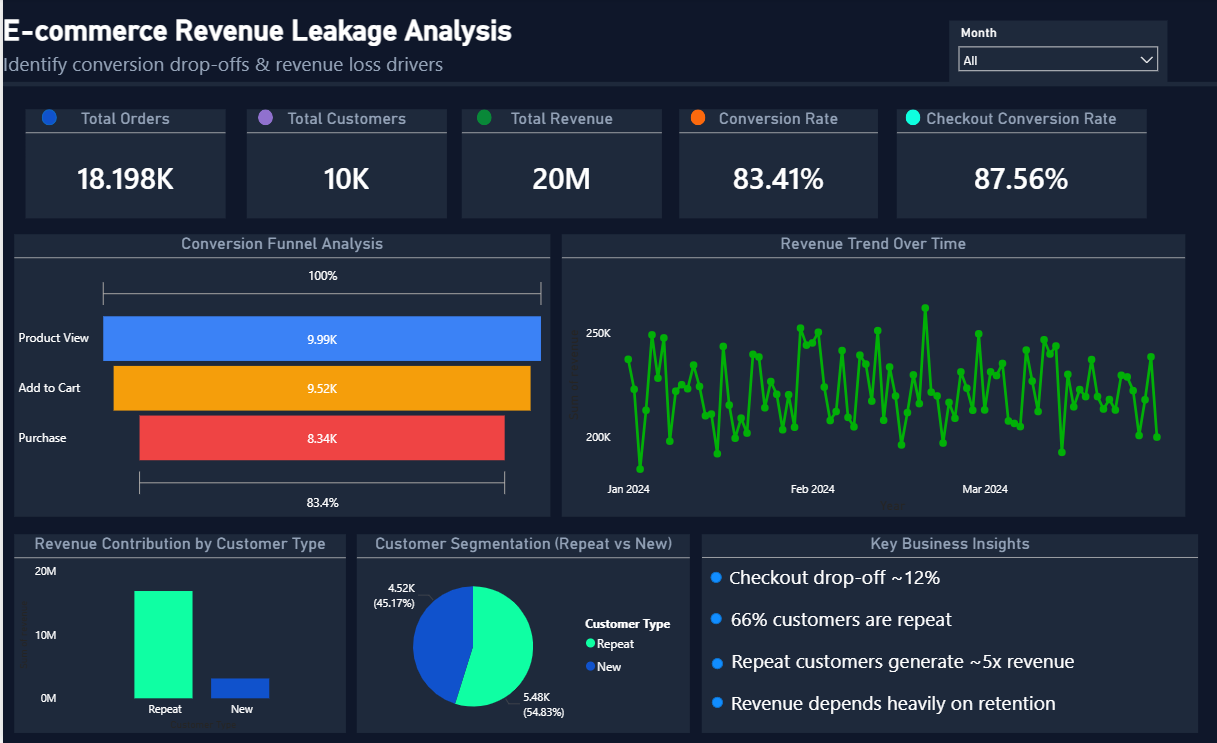

Layout of this report page (visuals, bound fields, positions):
{"tool":"powerbi","page":{"name":"Page 1","canvas":[1346,826],"ordinal":0},"visuals":[{"type":"cardVisual","title":"Total Revenue","fields":{"Data":["Sum(orders.revenue)"]},"box":[507.8,123.5,221.7,120.6],"z":0},{"type":"cardVisual","title":"Total Orders","fields":{"Data":["Count(orders.order_id)"]},"box":[24.9,123.2,221.4,120.4],"z":1000},{"type":"cardVisual","title":"Total Customers","fields":{"Data":["CountNonNull(customers.customer_id)"]},"box":[269.3,123.5,221.7,120.6],"z":2000},{"type":"funnel","title":"Conversion Funnel Analysis","fields":{"Y":["Count(events.user_id)"],"Category":["events.Event Label"]},"box":[12.6,260.9,593.4,312.8],"z":3000},{"type":"pieChart","title":"Customer Segmentation (Repeat vs New)","fields":{"Category":["customers.Customer Type"],"Y":["CountNonNull(customers.customer_id)"]},"box":[391.4,593.4,369,220.2],"z":4000},{"type":"clusteredColumnChart","title":"Revenue Contribution by Customer Type","fields":{"Category":["customers.Customer Type"],"Y":["Sum(orders.revenue)"]},"box":[12.6,593.4,367.5,220.2],"z":5000},{"type":"lineChart","title":"Revenue Trend Over Time","fields":{"Y":["Sum(orders.revenue)"],"Category":["orders.order_date.Variation.Date Hierarchy.Year","orders.order_date.Variation.Date Hierarchy.Quarter","orders.order_date.Variation.Date Hierarchy.Month","orders.order_date.Variation.Date Hierarchy.Day"]},"box":[618.7,260.9,690.2,312.8],"z":6000},{"type":"cardVisual","title":"Conversion Rate","fields":{"Data":["customers.Conversion Rate"]},"box":[749.1,123.5,220.2,120.6],"z":7000},{"type":"cardVisual","title":"Checkout Conversion Rate","fields":{"Data":["customers.Checkout Conversion"]},"box":[989.6,123.2,276.8,120.4],"z":8000},{"type":"shape","title":"E-commerce Revenue Leakage Analysis","box":[0,18.2,1345.3,80],"z":9000},{"type":"slicer","fields":{"Values":["orders.order_date.Variation.Date Hierarchy.Month"]},"box":[1047.9,25.3,241.3,70.1],"z":11000},{"type":"textbox","title":"Key Business Insights","box":[773.7,593.8,549.5,220.1],"z":11001},{"type":"shape","box":[783.4,635.3,12.5,12.5],"z":11002},{"type":"shape","box":[783.4,681,12.5,12.5],"z":11003},{"type":"shape","box":[784.8,773.7,12.5,12.5],"z":11004},{"type":"shape","box":[784.8,730.8,12.5,12.5],"z":11006},{"type":"shape","box":[999.3,123.2,16.6,18],"z":11010},{"type":"shape","box":[282.3,123.2,16.6,18],"z":11011},{"type":"shape","box":[524.6,123.2,16.6,18],"z":11012},{"type":"shape","box":[761.2,123.2,16.6,18],"z":11013},{"type":"shape","box":[42.9,123.2,16.6,18],"z":11014}]}

Visuals, with their boxes in screenshot pixels (x1, y1, x2, y2), scaled from the page's 1346x826 canvas onto the 1217x743 screenshot:
"Total Revenue" cardVisual: [459,111,660,220]
"Total Orders" cardVisual: [23,111,223,219]
"Total Customers" cardVisual: [243,111,444,220]
"Conversion Funnel Analysis" funnel: [11,235,548,516]
"Customer Segmentation (Repeat vs New)" pieChart: [354,534,688,732]
"Revenue Contribution by Customer Type" clusteredColumnChart: [11,534,344,732]
"Revenue Trend Over Time" lineChart: [559,235,1183,516]
"Conversion Rate" cardVisual: [677,111,876,220]
"Checkout Conversion Rate" cardVisual: [895,111,1145,219]
"E-commerce Revenue Leakage Analysis" shape: [0,16,1216,88]
slicer - orders.order_date.Variation.Date Hierarchy.Month: [947,23,1166,86]
"Key Business Insights" textbox: [700,534,1196,732]
shape: [708,571,720,583]
shape: [708,613,720,624]
shape: [710,696,721,707]
shape: [710,657,721,669]
shape: [904,111,919,127]
shape: [255,111,270,127]
shape: [474,111,489,127]
shape: [688,111,703,127]
shape: [39,111,54,127]
